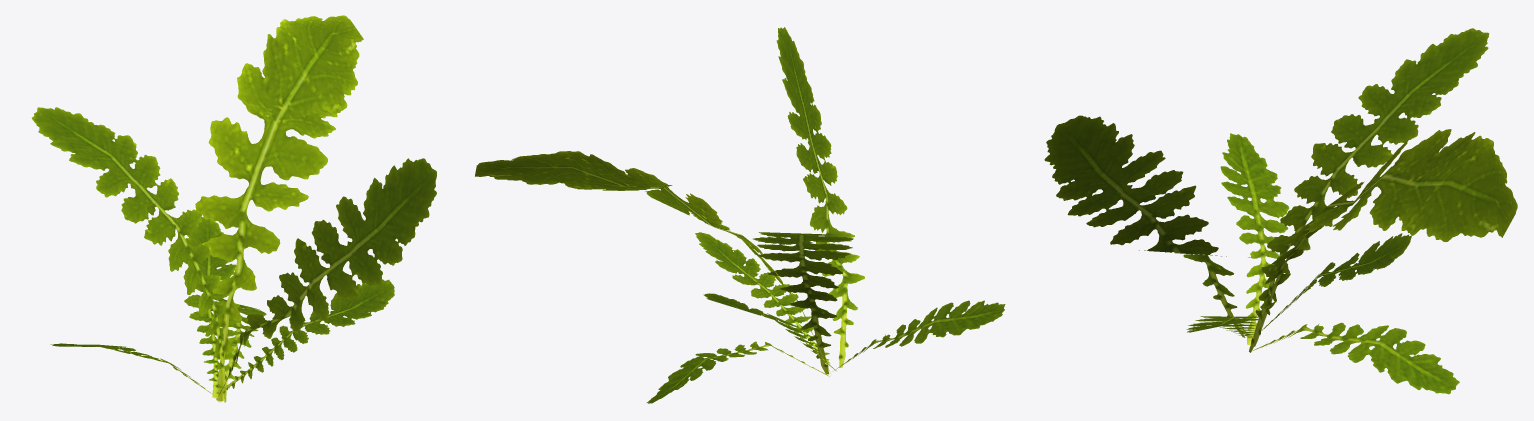
Rendered from Q_Weed.fbx.
The picture shows the model from 3 angles, left to right: view 1: azimuth 30°, elevation 25°; view 2: azimuth 150°, elevation 25°; view 3: azimuth 270°, elevation 25°; orthographic projection. The views are drawn at different scales.
Visible parts, largest first — view 1: _9012_Var3_LOD3; view 2: _9012_Var3_LOD3; view 3: _9012_Var3_LOD3.
Boxes of the visible parts, <box> form: _9012_Var3_LOD3: <box>32,15,436,402</box>; _9012_Var3_LOD3: <box>475,27,1005,403</box>; _9012_Var3_LOD3: <box>1044,28,1517,394</box>.
Bounding box in the file's own units: 25.28 × 15.96 × 21.16.
1 material, 1 textured.
